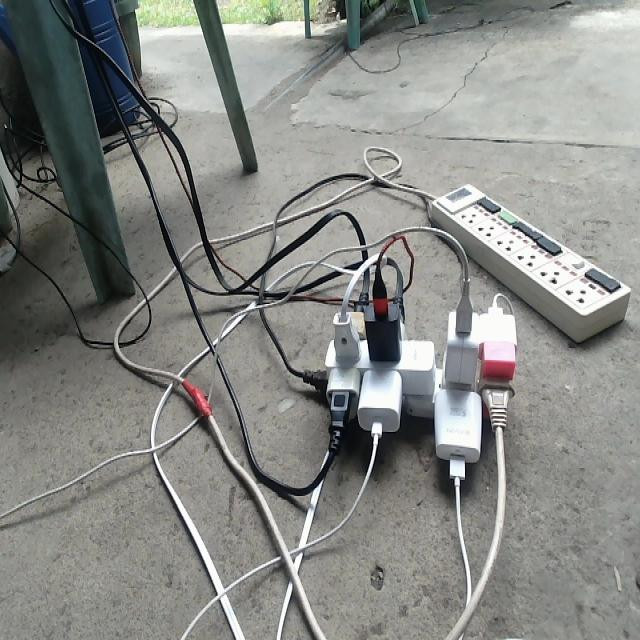-: (297, 271, 517, 488)
